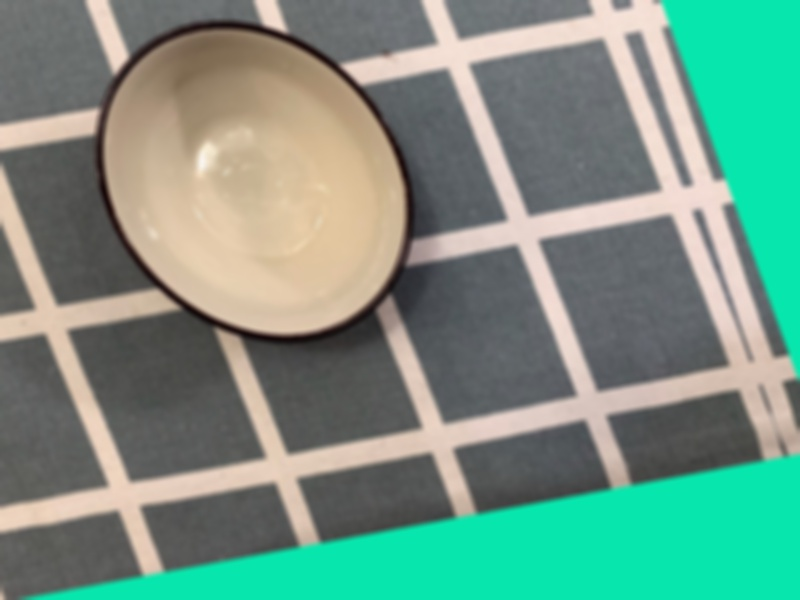bowl_small: (38, 0, 473, 379)
